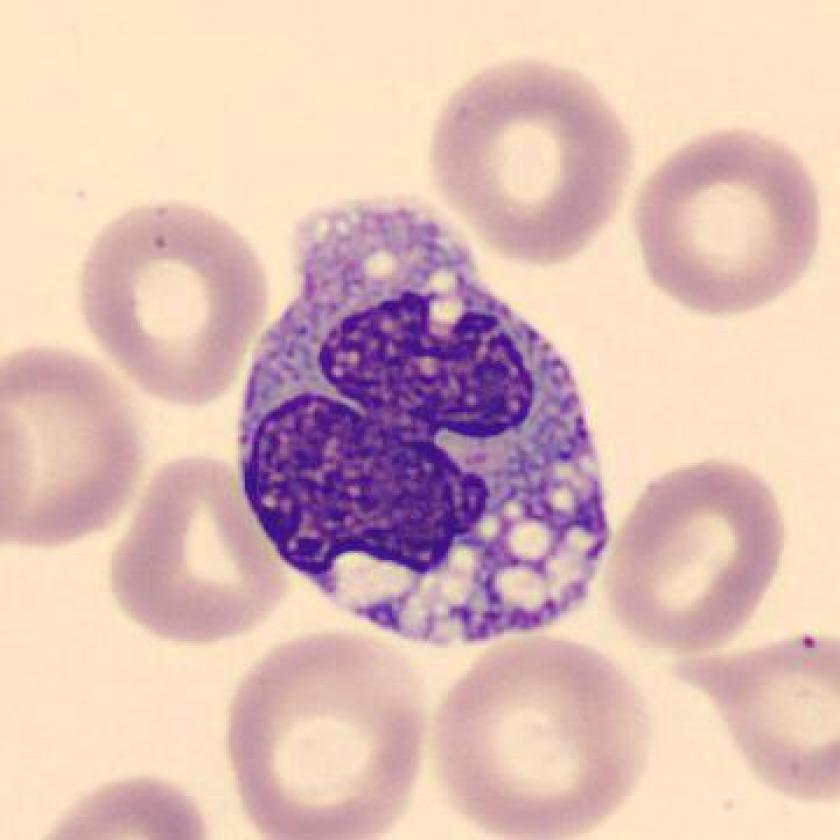monocyte: (216, 193, 629, 665)
